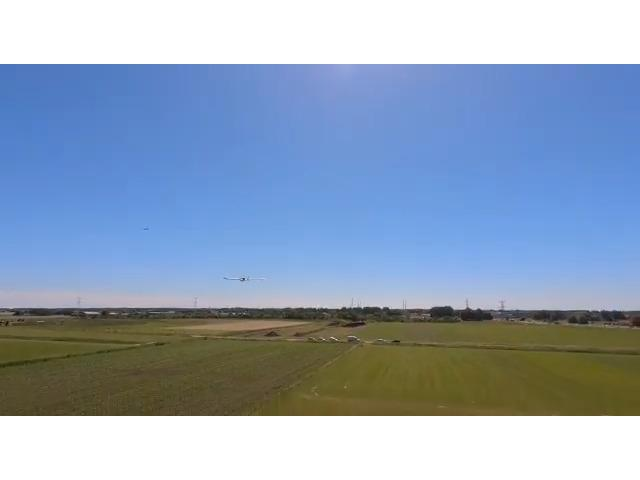Anti-Drone: (202, 260, 284, 296)
